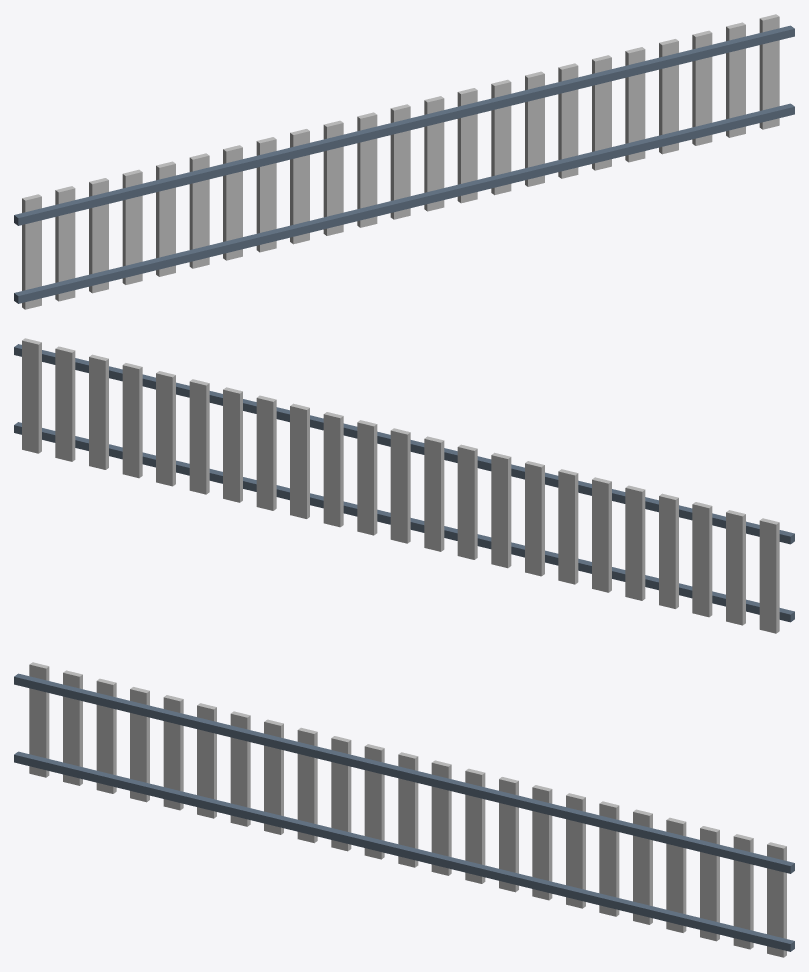
Rendered from vias.obj.
3 views of the same model, one above another, from view 1: azimuth 30°, elevation 25°; view 2: azimuth 150°, elevation 25°; view 3: azimuth 330°, elevation 25° (orthographic).
Parts seen in each view (by area): view 1: Mesh_track_WOOD, Mesh_track_ALUMINUM; view 2: Mesh_track_WOOD, Mesh_track_ALUMINUM; view 3: Mesh_track_WOOD, Mesh_track_ALUMINUM.
Boxes of the visible parts, <box> form: Mesh_track_WOOD: <box>22,14,779,309</box>; Mesh_track_ALUMINUM: <box>14,25,794,303</box>; Mesh_track_WOOD: <box>22,338,779,633</box>; Mesh_track_ALUMINUM: <box>14,344,794,622</box>; Mesh_track_WOOD: <box>29,662,786,957</box>; Mesh_track_ALUMINUM: <box>14,673,794,951</box>.
Size of the model in its own units: 417 by 56 by 7.
